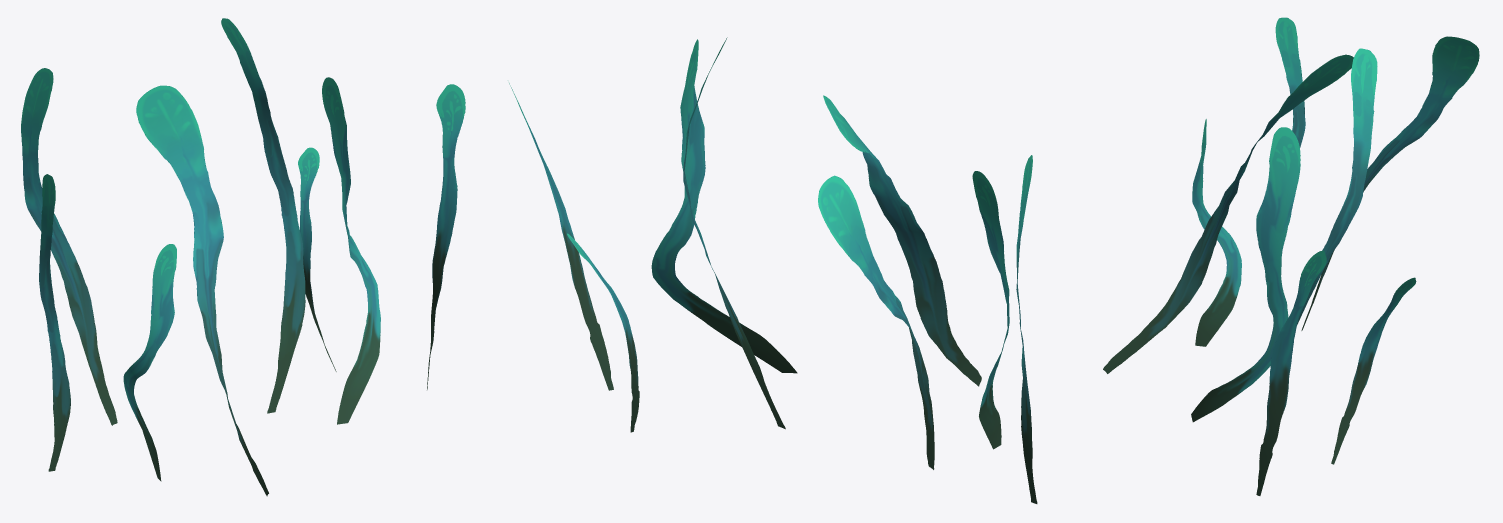
Rendered from Seaweed1.fbx.
The picture shows the model from 3 angles, left to right: view 1: azimuth 30°, elevation 25°; view 2: azimuth 150°, elevation 25°; view 3: azimuth 270°, elevation 25°; orthographic projection. The views are drawn at different scales.
Visible parts, largest first — view 1: Plane.002; view 2: Plane.002; view 3: Plane.002.
Part boxes in pixels (box(x1,y1,x2,y2)): Plane.002: box(21, 18, 465, 496); Plane.002: box(509, 37, 1037, 503); Plane.002: box(1103, 17, 1479, 495).
Bounding box in the file's own units: 218 × 183 × 171.
